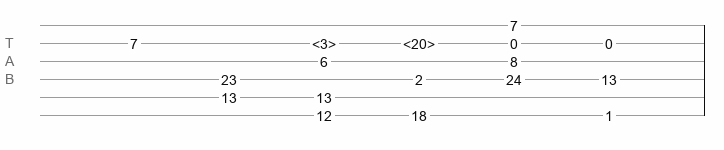0: (510, 36, 518, 46), (605, 36, 613, 46)
1: (605, 108, 613, 118)
12: (316, 108, 332, 118)
13: (221, 90, 237, 100), (316, 90, 332, 100), (601, 72, 617, 82)
18: (411, 108, 427, 118)
2: (415, 72, 423, 82)
23: (221, 72, 237, 82)
24: (506, 72, 522, 82)
6: (320, 54, 328, 64)
7: (130, 36, 138, 46), (510, 18, 518, 28)
8: (510, 54, 518, 64)
harmonic: (403, 36, 435, 46), (312, 36, 336, 46)
